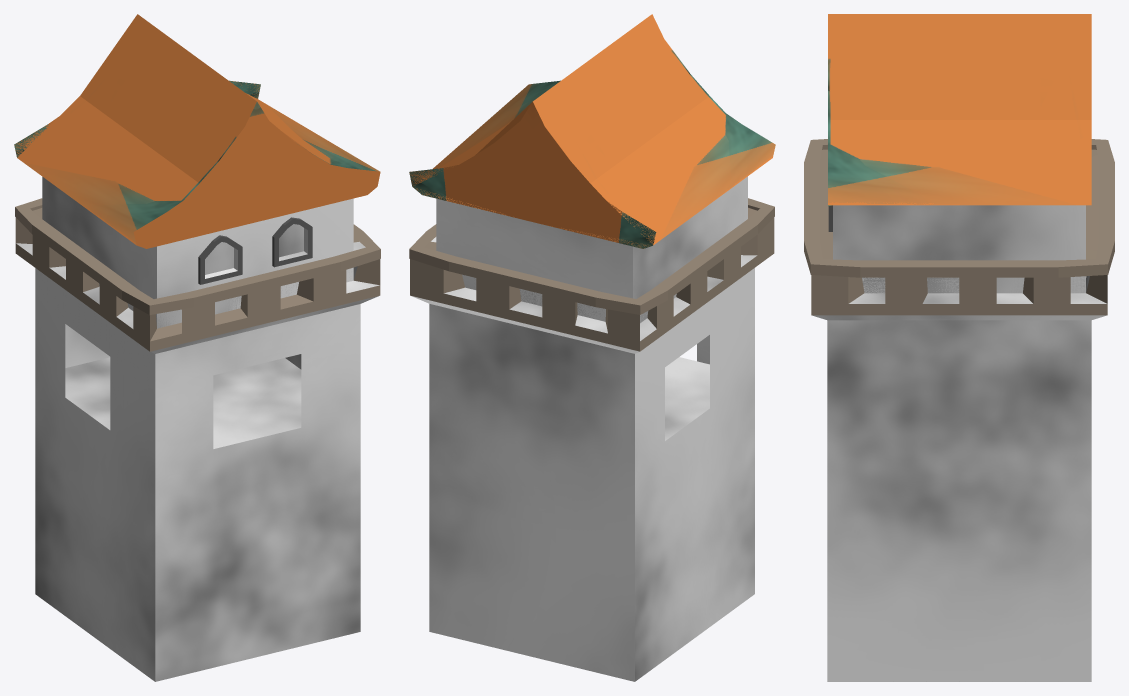
The model's file is checkpoint.fbx.
3 renders of one model, left to right at view 1: azimuth 30°, elevation 25°; view 2: azimuth 150°, elevation 25°; view 3: azimuth 270°, elevation 25°, orthographic. The views are drawn at different scales.
Visible parts, largest first — view 1: Cube, Cube.001; view 2: Cube, Cube.001; view 3: Cube, Cube.001.
Part boxes in pixels (bbox=[...]): Cube: bbox=[15, 177, 380, 681]; Cube.001: bbox=[14, 14, 380, 248]; Cube: bbox=[409, 176, 774, 681]; Cube.001: bbox=[409, 14, 775, 248]; Cube: bbox=[804, 139, 1114, 681]; Cube.001: bbox=[828, 14, 1091, 206].
Bounding box in the file's own units: 148 × 319 × 147.
